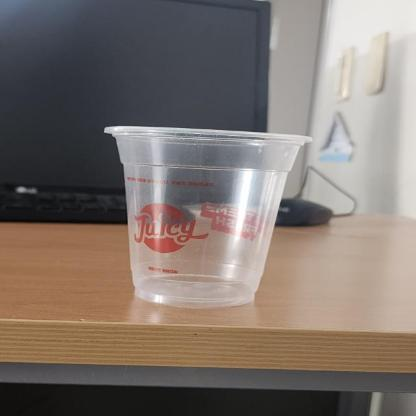Plastic Cup: (102, 123, 315, 308)
